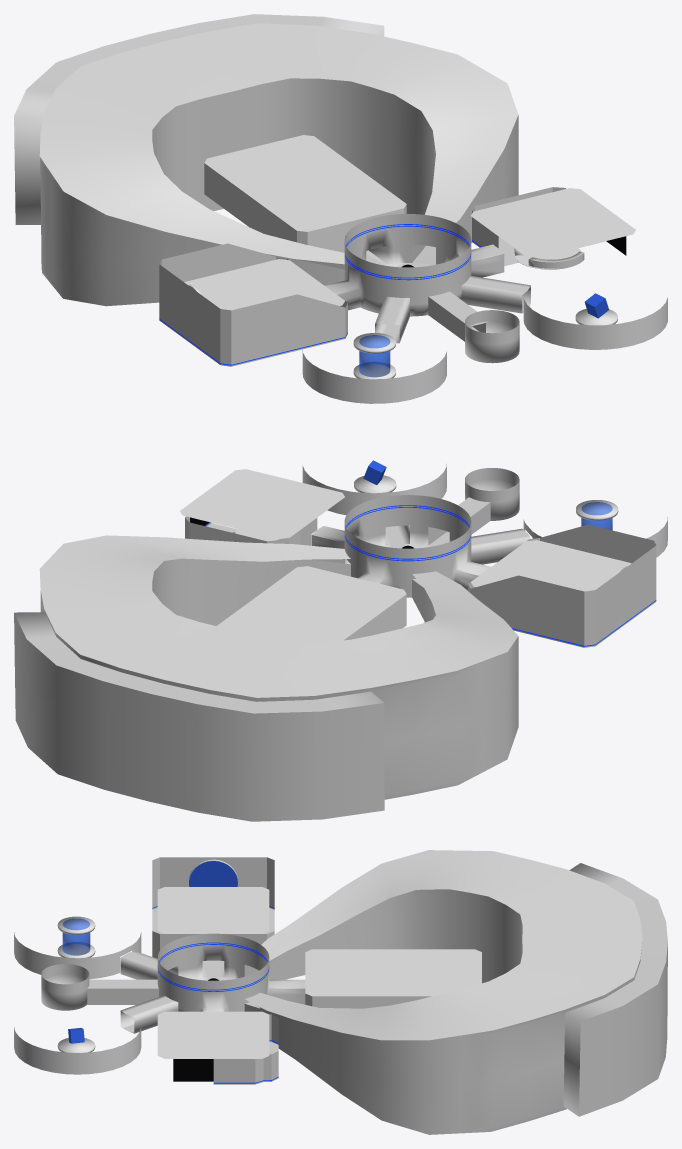
File: SILIQ.glb
3 renders of one model, top to bottom at view 1: azimuth 30°, elevation 25°; view 2: azimuth 150°, elevation 25°; view 3: azimuth 270°, elevation 25°, orthographic. The views are drawn at different scales.
Visible parts, largest first — view 1: 円柱, シーリング; view 2: 円柱, シーリング; view 3: 円柱, シーリング.
Part boxes in pixels (left/top/right/bottom): 円柱: left=14, top=14, right=667, bottom=403; シーリング: left=39, top=23, right=635, bottom=310; 円柱: left=14, top=460, right=667, bottom=821; シーリング: left=39, top=469, right=631, bottom=697; 円柱: left=14, top=857, right=667, bottom=1134; シーリング: left=157, top=850, right=642, bottom=1058.
Size of the model in its own units: 301 by 76.23 by 436.
